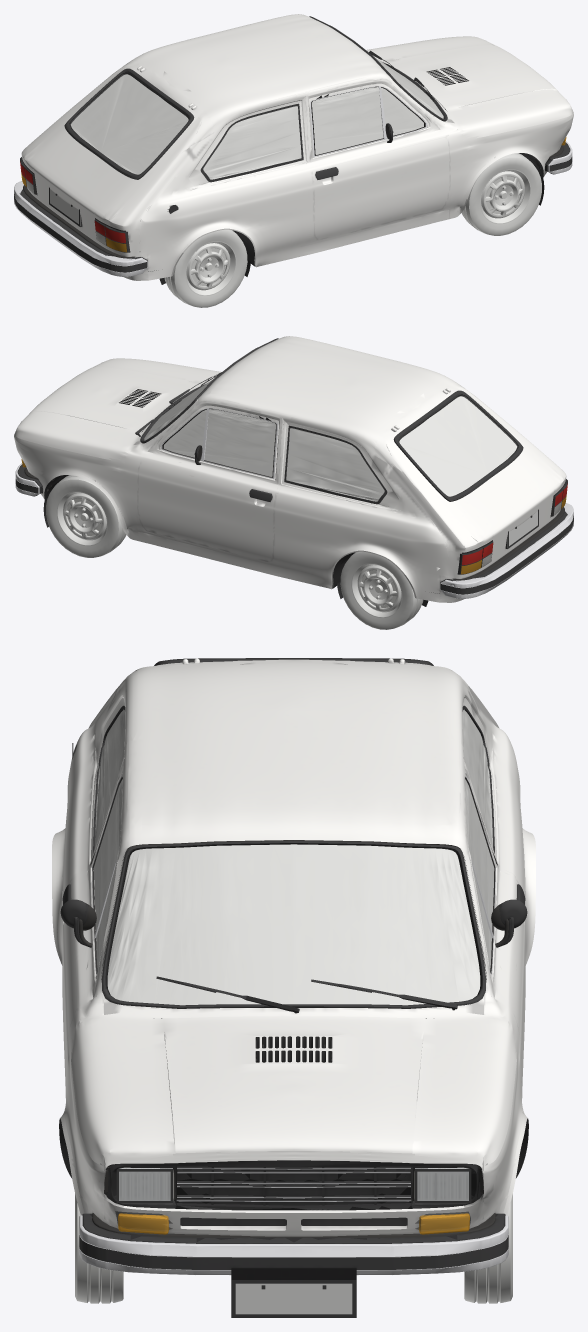
The model's file is jabuti.glb.
3 renders of one model, top to bottom at view 1: azimuth 30°, elevation 25°; view 2: azimuth 150°, elevation 25°; view 3: azimuth 270°, elevation 25°, orthographic. The views are drawn at different scales.
Visible parts, largest first — view 1: body, door_fr, hood, trunk, glass_rear, glass_door_fr, glass_door_rr, fender_front_right, bumper_rear, wheel_rr_tire, wheel_fr_tire, wheel_fr_rim (+5 smaller); view 2: body, door_fl, hood, trunk, glass_rear, glass_door_fl, glass_door_rl, fender_front_left, bumper_rear, wheel_rl_tire, wheel_fl_tire, wheel_fl_rim (+5 smaller); view 3: body, hood, glass_windshield, bumper_front, plate_front, door_fr, door_fl, fender_front_left, fender_front_right, headlight_right, headlight_left, glass_door_fl (+6 smaller).
Part boxes in pixels (x1=…): body: x1=20, y1=14, x2=573, y2=284; door_fr: x1=296, y1=74, x2=451, y2=244; hood: x1=366, y1=36, x2=572, y2=138; trunk: x1=23, y1=61, x2=214, y2=224; glass_rear: x1=71, y1=74, x2=188, y2=174; glass_door_fr: x1=311, y1=87, x2=423, y2=155; glass_door_rr: x1=203, y1=106, x2=301, y2=179; fender_front_right: x1=443, y1=108, x2=573, y2=219; bumper_rear: x1=14, y1=181, x2=148, y2=280; wheel_rr_tire: x1=164, y1=229, x2=255, y2=307; wheel_fr_tire: x1=461, y1=153, x2=541, y2=235; wheel_fr_rim: x1=480, y1=169, x2=531, y2=224; body: x1=14, y1=336, x2=567, y2=606; door_fl: x1=136, y1=396, x2=291, y2=566; hood: x1=15, y1=358, x2=221, y2=460; trunk: x1=373, y1=383, x2=564, y2=546; glass_rear: x1=399, y1=396, x2=516, y2=496; glass_door_fl: x1=164, y1=409, x2=275, y2=477; glass_door_rl: x1=286, y1=428, x2=384, y2=501; fender_front_left: x1=14, y1=430, x2=144, y2=541; bumper_rear: x1=439, y1=503, x2=573, y2=602; wheel_rl_tire: x1=332, y1=551, x2=423, y2=629; wheel_fl_tire: x1=46, y1=475, x2=126, y2=557; wheel_fl_rim: x1=56, y1=491, x2=107, y2=546; body: x1=52, y1=658, x2=535, y2=1237; hood: x1=71, y1=1008, x2=516, y2=1169; glass_windshield: x1=107, y1=844, x2=480, y2=1005; bumper_front: x1=79, y1=1203, x2=508, y2=1275; plate_front: x1=231, y1=1267, x2=356, y2=1317; door_fr: x1=62, y1=742, x2=128, y2=1097; door_fl: x1=456, y1=742, x2=525, y2=1097; fender_front_left: x1=481, y1=992, x2=523, y2=1218; fender_front_right: x1=64, y1=992, x2=106, y2=1218; headlight_right: x1=110, y1=1165, x2=173, y2=1208; headlight_left: x1=414, y1=1165, x2=477, y2=1208; glass_door_fl: x1=465, y1=779, x2=494, y2=970.
Size of the model in its own units: 3.63 by 1.35 by 1.58.
Materials: 14 (7 with a texture image).
